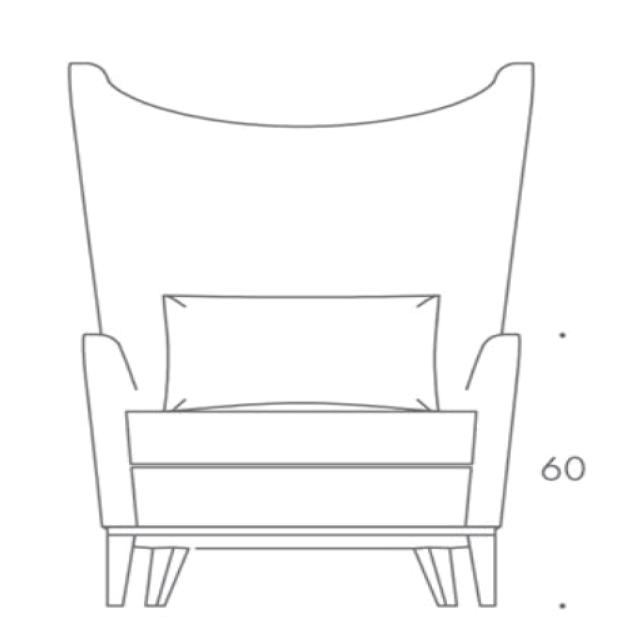Armrest: (80, 334, 144, 529), (460, 333, 523, 528)
Backrest: (66, 58, 538, 408)
Leg_Structure: (101, 524, 501, 611)
Seat: (124, 399, 480, 528)
